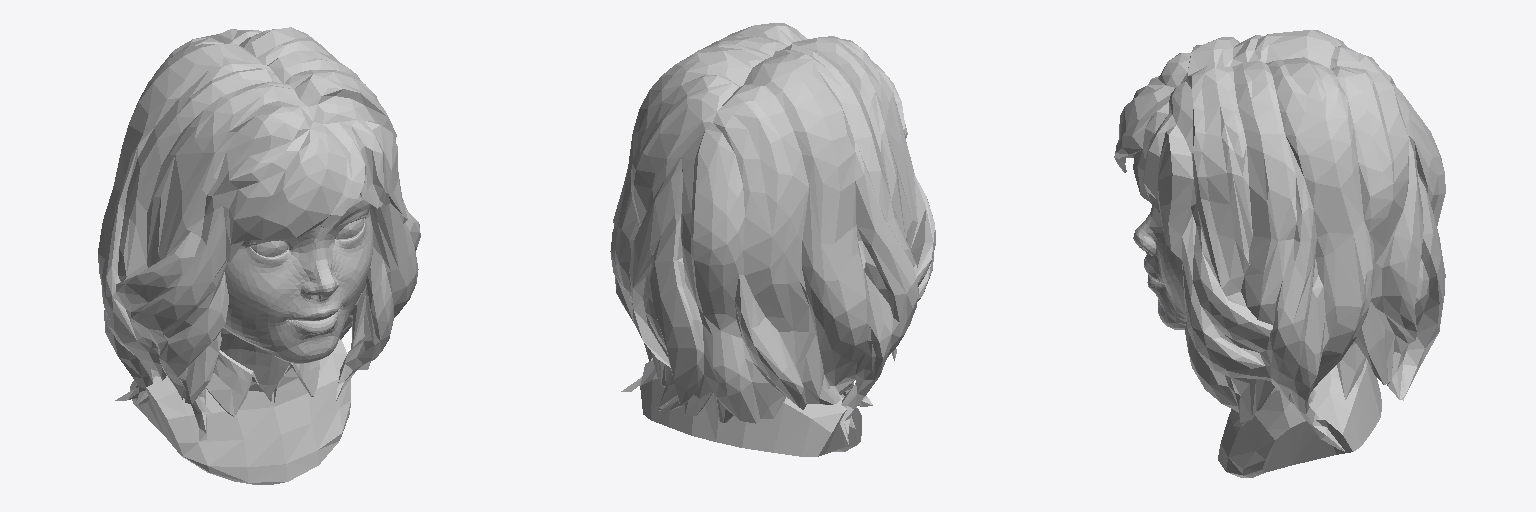
The model's file is viseme_sil.obj.
3 renders of one model, left to right at view 1: azimuth 30°, elevation 25°; view 2: azimuth 150°, elevation 25°; view 3: azimuth 270°, elevation 25°, orthographic.
Visible parts, largest first — view 1: Wolf3D_Avatar; view 2: Wolf3D_Avatar; view 3: Wolf3D_Avatar.
Boxes of the visible parts, x1,y1,x2,y2 form: Wolf3D_Avatar: [98, 27, 420, 484]; Wolf3D_Avatar: [610, 23, 935, 456]; Wolf3D_Avatar: [1114, 30, 1445, 477].
Bounding box in the file's own units: 0.2775 × 0.3677 × 0.2652.